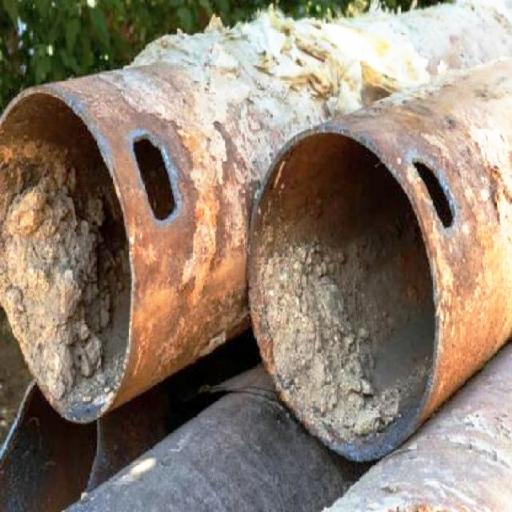corrosion: (94, 81, 254, 347), (374, 114, 512, 372)
